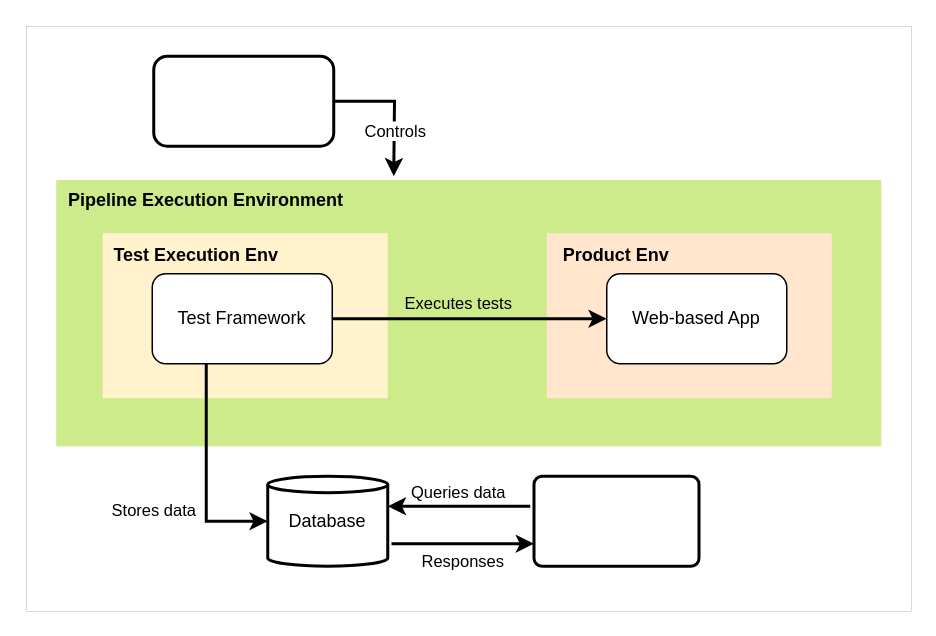
This 936x636 diagram has some shape labels left out. The centre of each missing label's shape, as x and y in pixels:
"Automation Server" goes at (243,100).
"Dashboard" goes at (616,520).
